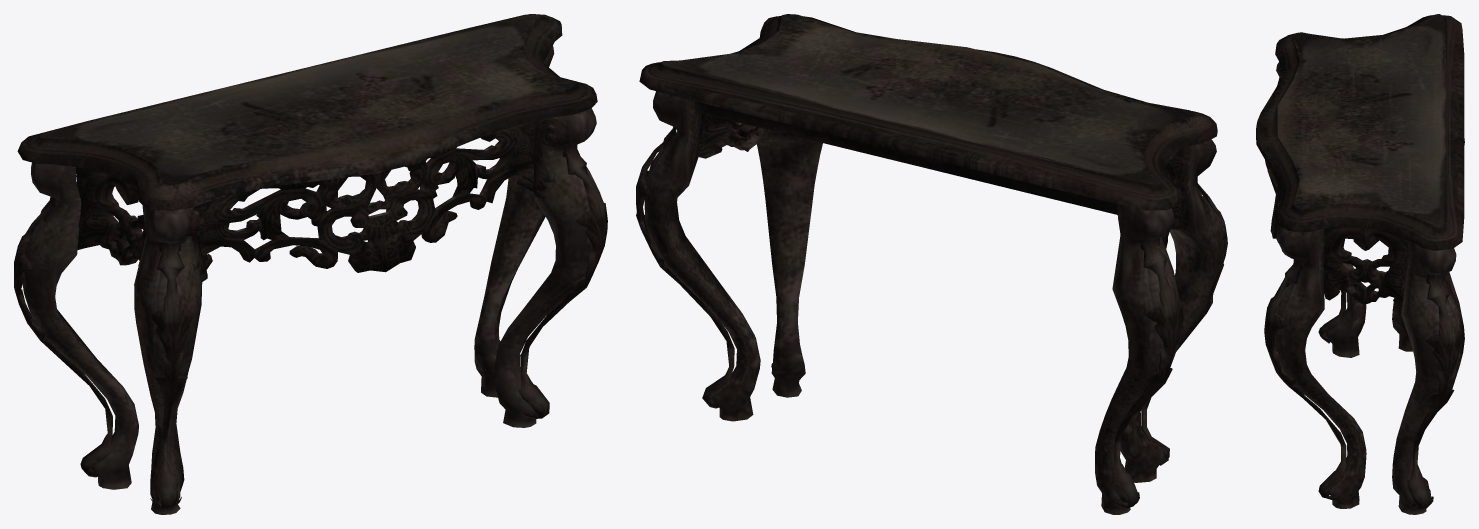
File: fernsehschrank.glb
3 views of the same model, side by side, from view 1: azimuth 30°, elevation 25°; view 2: azimuth 150°, elevation 25°; view 3: azimuth 270°, elevation 25° (orthographic). The views are drawn at different scales.
Parts seen in each view (by area): view 1: ClassicConsole_01; view 2: ClassicConsole_01; view 3: ClassicConsole_01.
Boxes of the visible parts, x1,y1,x2,y2 form: ClassicConsole_01: (14, 14, 607, 514); ClassicConsole_01: (636, 14, 1227, 514); ClassicConsole_01: (1256, 14, 1464, 514).
Bounding box in the file's own units: 1.54 × 0.9491 × 0.5859.
1 material, 1 textured.
